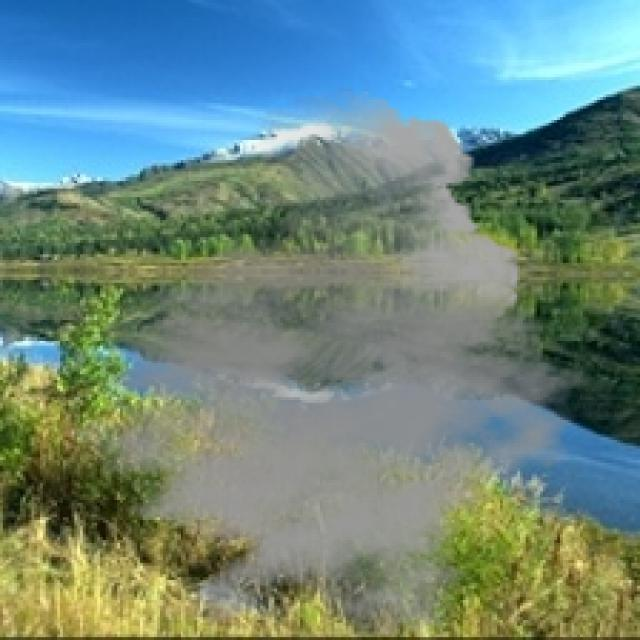smoke: (37, 89, 594, 637)
